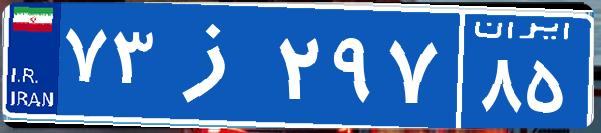2: (273, 28, 330, 110)
3: (110, 28, 158, 105)
5: (525, 38, 570, 115)
7: (385, 28, 445, 110), (57, 26, 110, 107)
8: (475, 38, 525, 113)
9: (330, 28, 385, 110)
ز: (158, 15, 273, 115)
